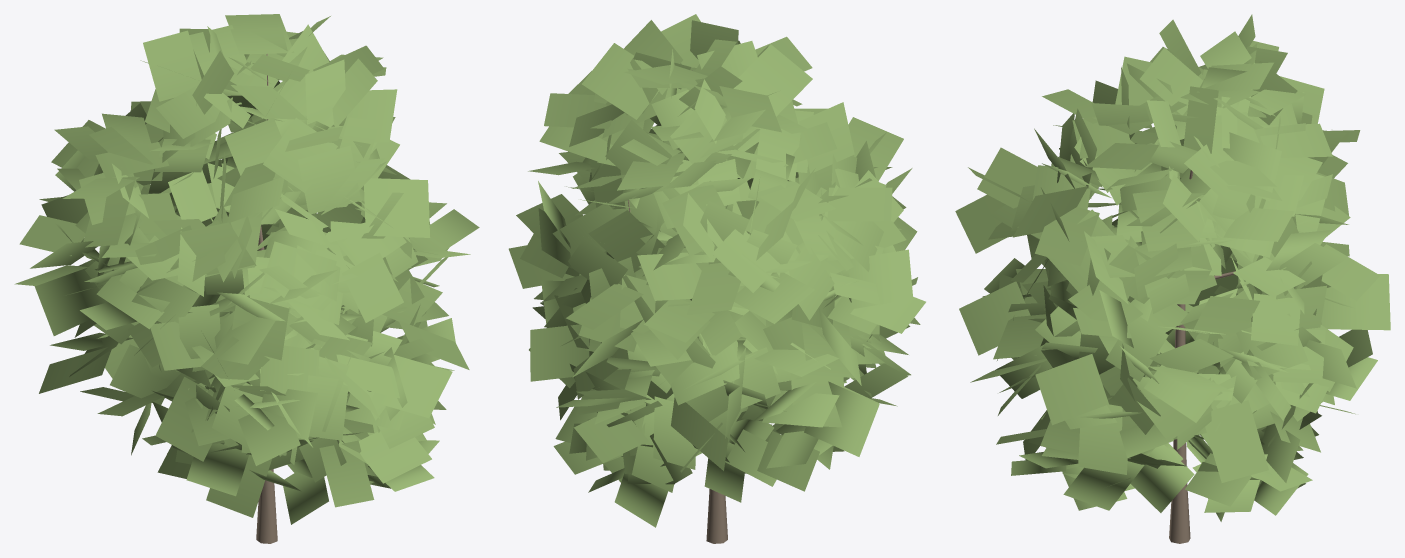
Rendered from Broadleaf_11_young_lod1.glb.
3 views of the same model, side by side, from view 1: azimuth 30°, elevation 25°; view 2: azimuth 150°, elevation 25°; view 3: azimuth 270°, elevation 25° (orthographic).
Parts seen in each view (by area): view 1: Broadleaf_11_young_lod1; view 2: Broadleaf_11_young_lod1; view 3: Broadleaf_11_young_lod1.
Boxes of the visible parts, box(x1,y1,x2,y2) form: Broadleaf_11_young_lod1: box(14, 14, 479, 543); Broadleaf_11_young_lod1: box(508, 14, 925, 543); Broadleaf_11_young_lod1: box(955, 14, 1390, 543).
Bounding box in the file's own units: 5.66 × 6.5 × 5.17.
